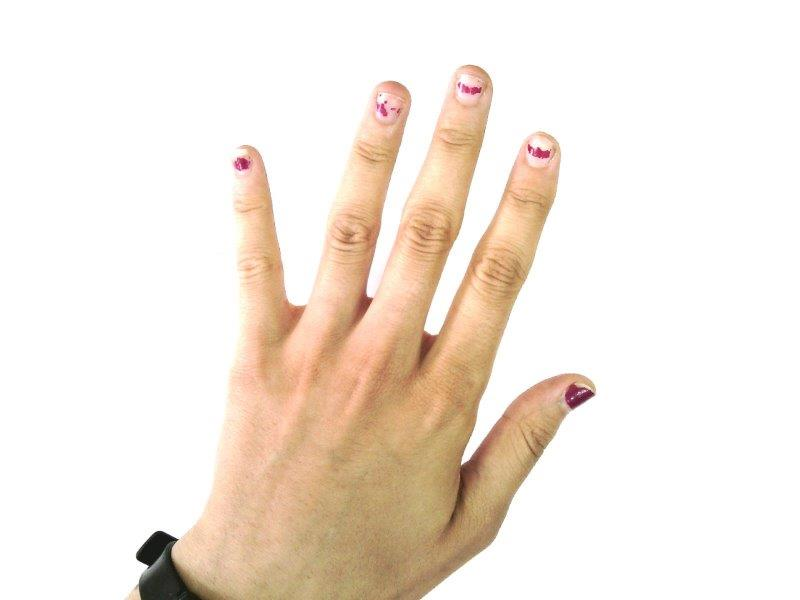hand: (210, 60, 595, 560)
